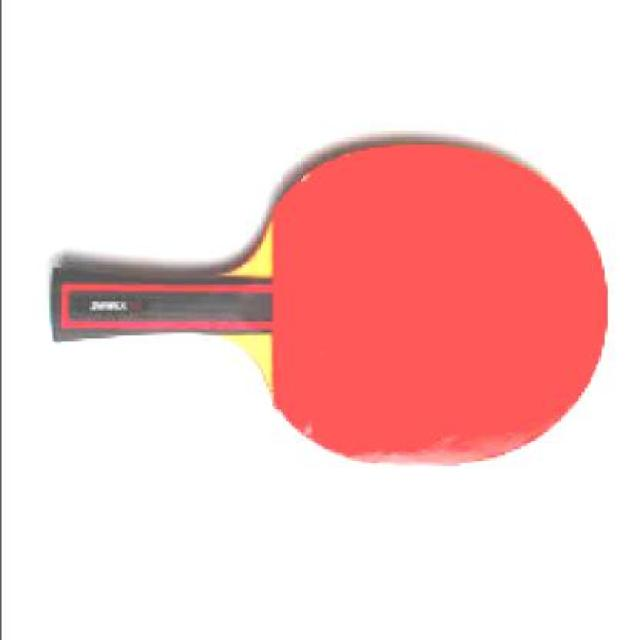table_tennis_racket: (227, 135, 611, 470)
